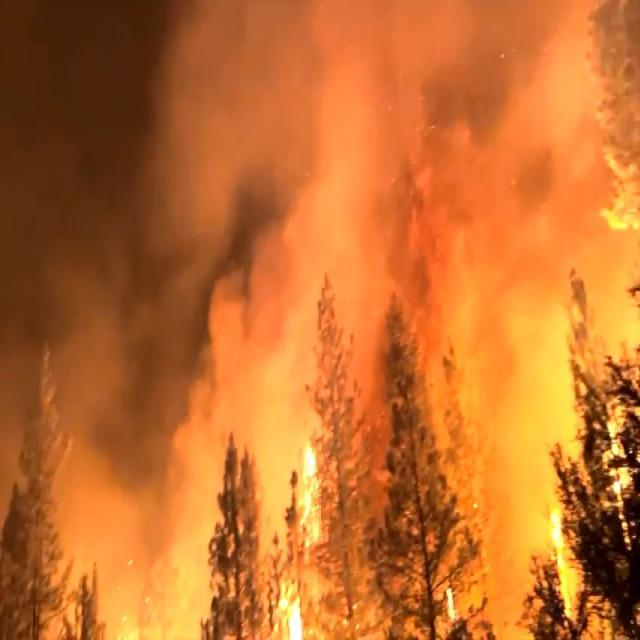Fire: (272, 424, 605, 640)
